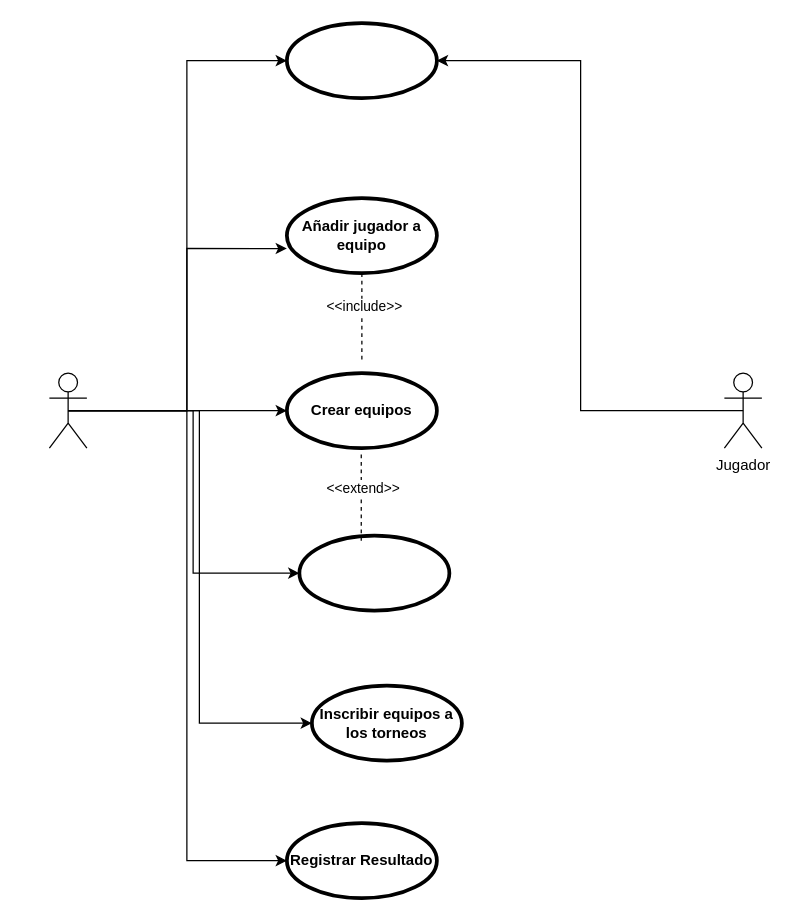
The diagram is 791 pixels wide and 921 high, and some of its shapes have lost their labels. Here are the shapes that lost their labels. From the top down, the centre of each, then its label:
[361,60]: Crear torneo
[67,410]: Administrador
[374,572]: Consultar lista equipos/jugadores
